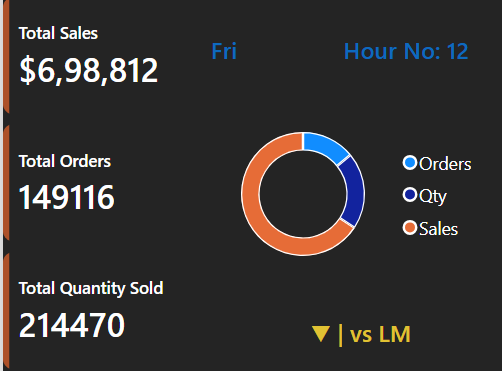

Layout of this report page (visuals, bound fields, positions):
{"tool":"powerbi","page":{"name":"Tool Tip-Calendar chart","canvas":[400,300],"ordinal":1},"visuals":[{"type":"cardVisual","fields":{"Data":["coffee_shop_sales_db coffee shop sales.Total Sales","coffee_shop_sales_db coffee shop sales.Total Orders","coffee_shop_sales_db coffee shop sales.Total Quantity Sold"]},"box":[0,0,172,300],"z":0},{"type":"donutChart","fields":{"Y":["coffee_shop_sales_db coffee shop sales.Total Orders","coffee_shop_sales_db coffee shop sales.Total Quantity Sold","coffee_shop_sales_db coffee shop sales.Total Sales"]},"box":[145,82,255,154],"z":1000},{"type":"cardVisual","fields":{"Data":["Min(Date Table.Date)"]},"box":[172,0,228,82],"z":2000},{"type":"cardVisual","fields":{"Data":["coffee_shop_sales_db coffee shop sales.MOM Growth & Diff Sales"]},"box":[172,236,228,64],"z":3000}]}

Visuals, with their boxes in screenshot pixels (x1, y1, x2, y2), scaled from the page's 400x300 canvas onto the 502x371 screenshot:
cardVisual - coffee_shop_sales_db coffee shop sales.Total Sales x coffee_shop_sales_db coffee shop sales.Total Orders: <bbox>0, 0, 216, 370</bbox>
donutChart - coffee_shop_sales_db coffee shop sales.Total Orders x coffee_shop_sales_db coffee shop sales.Total Quantity Sold: <bbox>182, 101, 501, 292</bbox>
cardVisual - Min(Date Table.Date): <bbox>216, 0, 501, 101</bbox>
cardVisual - coffee_shop_sales_db coffee shop sales.MOM Growth & Diff Sales: <bbox>216, 292, 501, 370</bbox>
